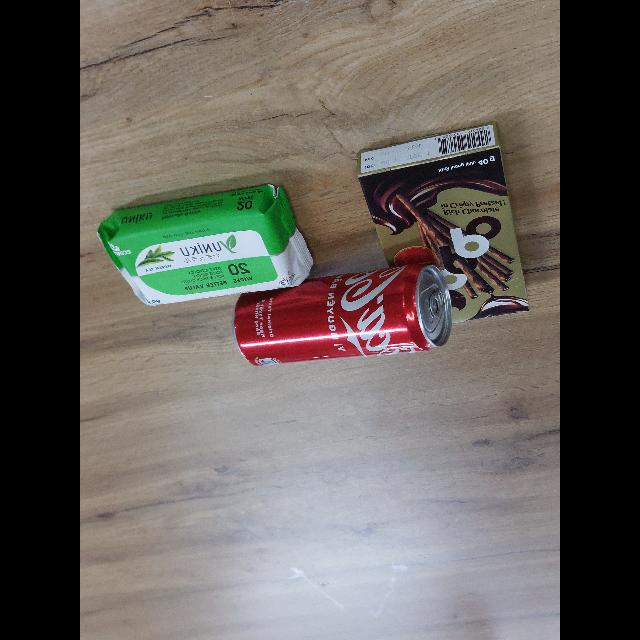banh_toppo_socola: (358, 124, 529, 322)
coca_cola: (233, 260, 455, 366)
khan_giay: (99, 185, 313, 305)
